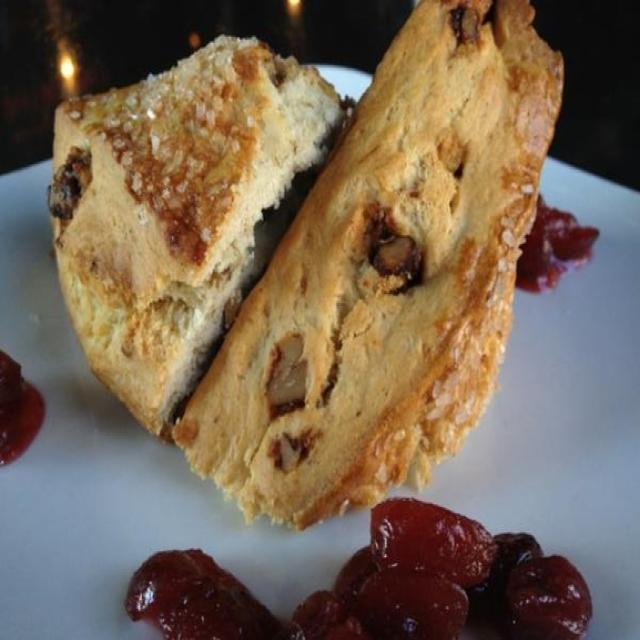面包点心: (33, 15, 588, 557)
